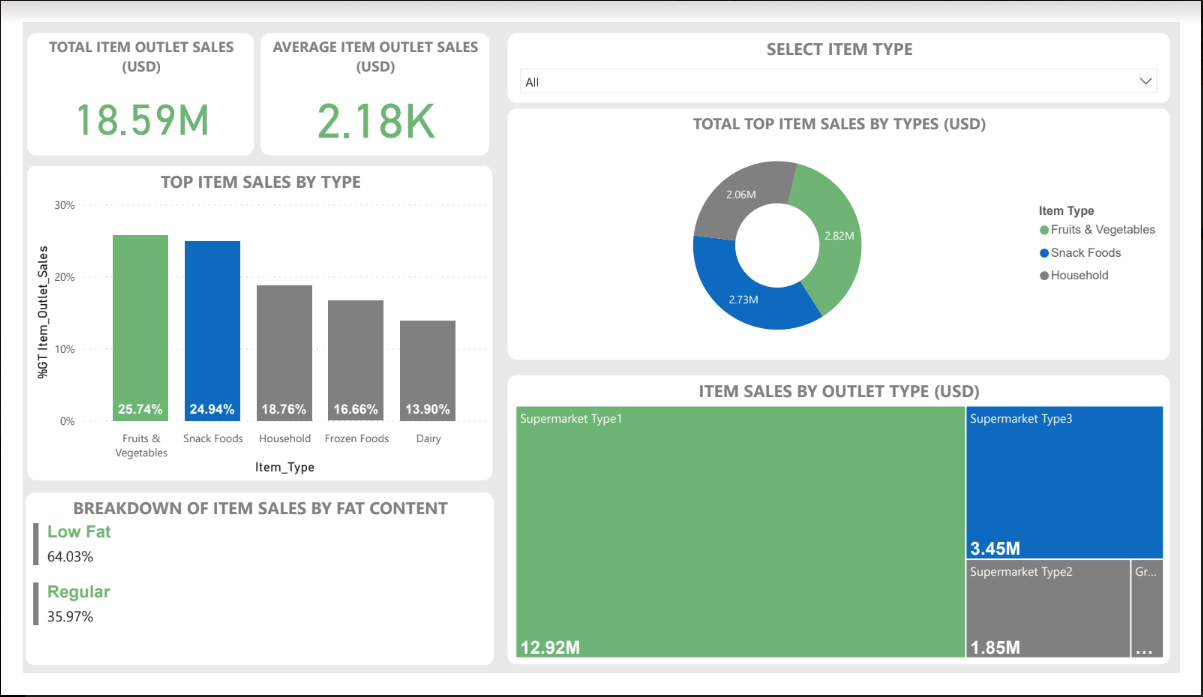

What the dashboard file says about the page in this screenshot:
{"tool":"powerbi","page":{"name":"Page 1","canvas":[1280,720],"ordinal":0},"visuals":[{"type":"columnChart","title":"TOP ITEM SALES BY TYPE","fields":{"Category":["Sheet_1.Item_Type"],"Y":["Sum(Sheet_1.Item_Outlet_Sales)"]},"box":[5.5,158.8,515,348],"z":0},{"type":"card","title":"TOTAL ITEM OUTLET SALES (USD)","fields":{"Values":["Sum(Sheet_1.Item_Outlet_Sales)"]},"box":[5.5,12.4,251.3,135.3],"z":1000},{"type":"card","title":"AVERAGE ITEM OUTLET SALES (USD)","fields":{"Values":["Avg(Sheet_1.Item_Outlet_Sales)"]},"box":[263.7,12.4,252.7,135.3],"z":2000},{"type":"donutChart","title":"TOTAL TOP ITEM SALES BY TYPES (USD)","fields":{"Y":["Sum(Sheet_1.Item_Outlet_Sales)"],"Category":["Sheet_1.Item_Type"]},"box":[536.7,95,733.3,278.3],"z":3000},{"type":"multiRowCard","title":"BREAKDOWN OF ITEM SALES BY FAT CONTENT","fields":{"Values":["Sheet_1.Item_Fat_Content","Sum(Sheet_1.Item_Outlet_Sales)"]},"box":[2.8,519.2,517.8,190.6],"z":4000},{"type":"treemap","title":"ITEM SALES BY OUTLET TYPE (USD)","fields":{"Values":["Sum(Sheet_1.Item_Outlet_Sales)"],"Group":["Sheet_1.Outlet_Type"]},"box":[535.9,390.1,732.8,320],"z":5000},{"type":"slicer","title":"SELECT ITEM TYPE","fields":{"Values":["Sheet_1.Item_Type"]},"box":[536.7,11.7,733.3,76.7],"z":5001}]}

Visuals, with their boxes in screenshot pixels (x1, y1, x2, y2), scaled from the page's 1280x720 canvas onto the 1203x697 screenshot:
"TOP ITEM SALES BY TYPE" columnChart: bbox=[5, 154, 489, 491]
"TOTAL ITEM OUTLET SALES (USD)" card: bbox=[5, 12, 241, 143]
"AVERAGE ITEM OUTLET SALES (USD)" card: bbox=[248, 12, 485, 143]
"TOTAL TOP ITEM SALES BY TYPES (USD)" donutChart: bbox=[504, 92, 1194, 361]
"BREAKDOWN OF ITEM SALES BY FAT CONTENT" multiRowCard: bbox=[3, 503, 489, 687]
"ITEM SALES BY OUTLET TYPE (USD)" treemap: bbox=[504, 378, 1192, 687]
"SELECT ITEM TYPE" slicer: bbox=[504, 11, 1194, 86]
